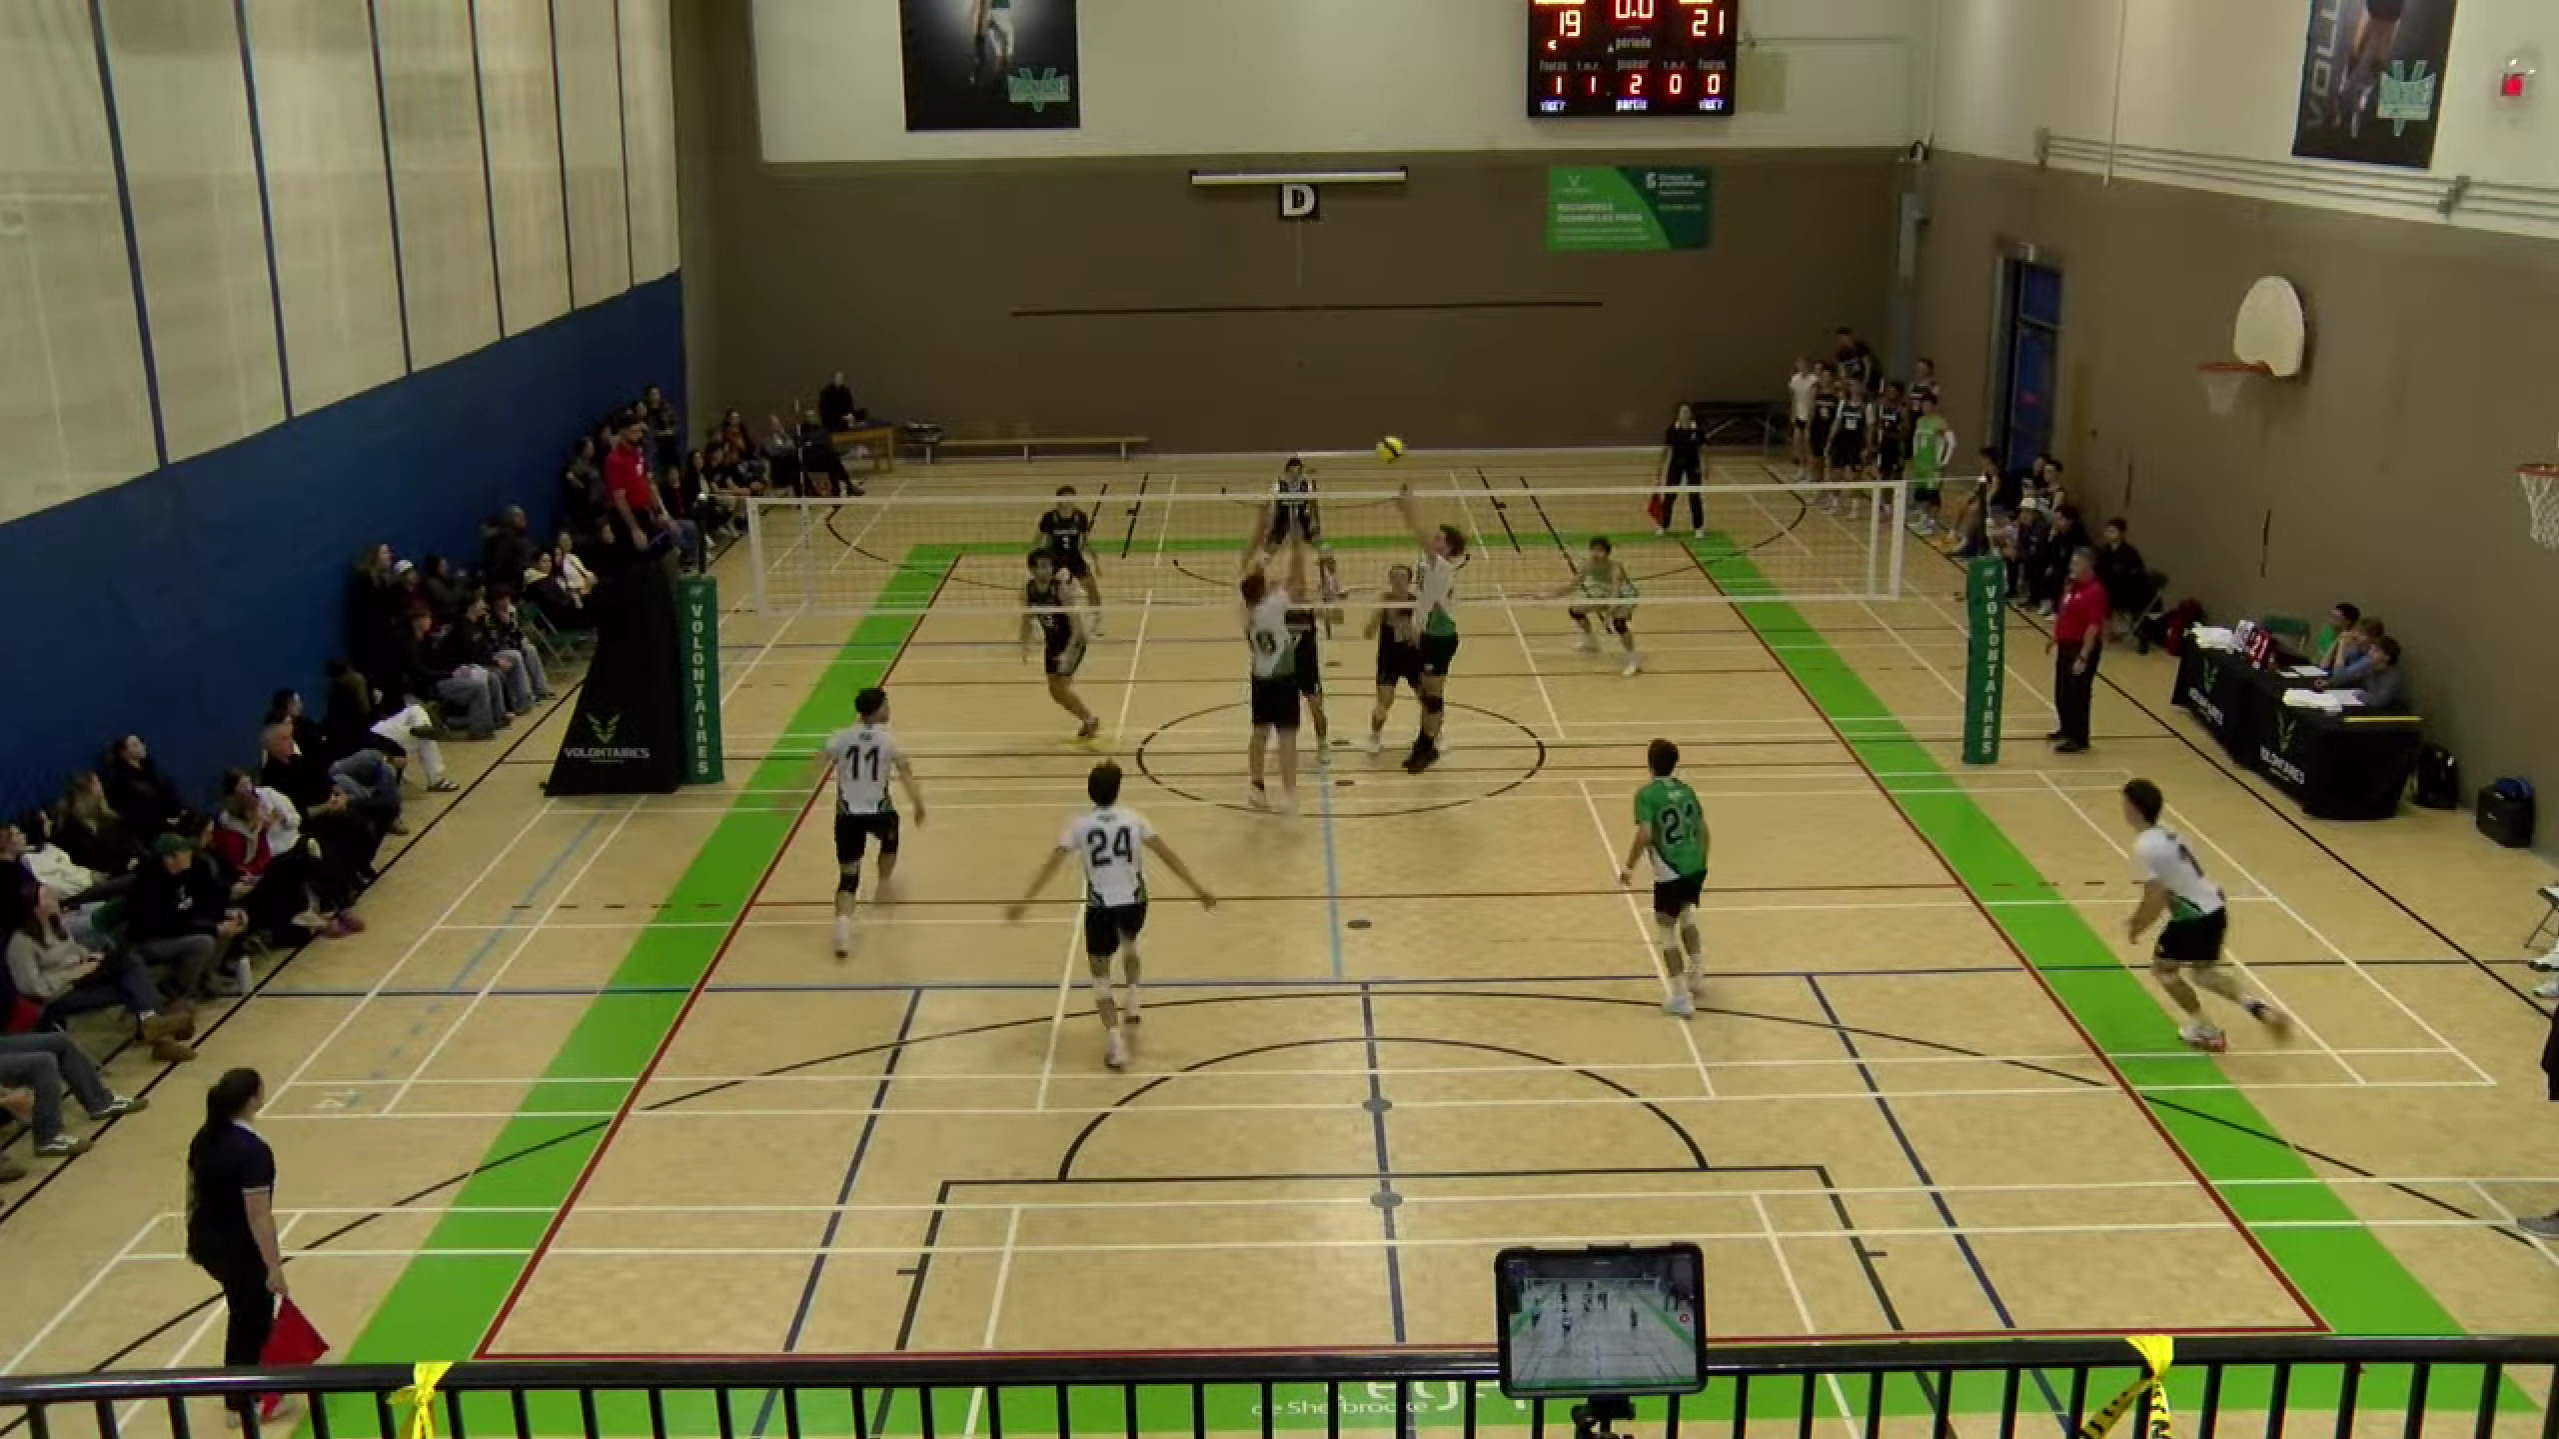Ball: (1373, 432, 1408, 467)
